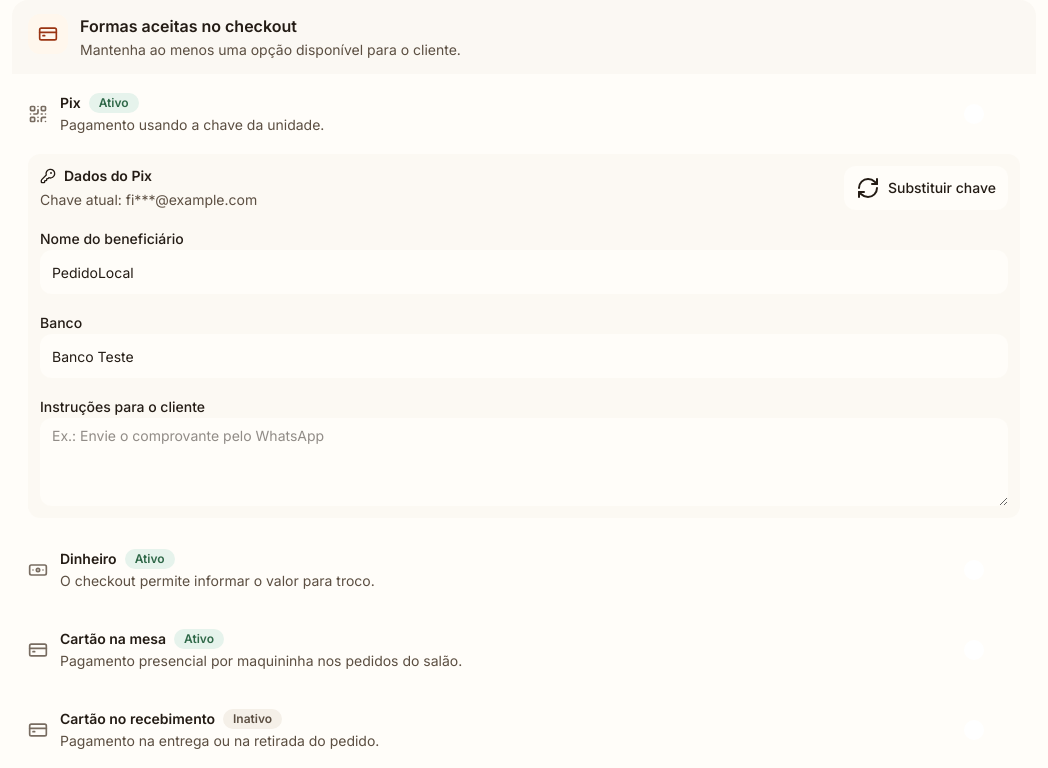
Scenario: componentes do painel do tenant › mostra apenas a chave Pix mascarada e exige substituição explícita
This screenshot has width=1048, height=768.
Expected: the text "Chave atual: fi***@example.com" is shown, left=40, top=190, right=257, bottom=210
Click the button "Substituir chave" at (926, 188), box left=844, top=166, right=1008, bottom=210
(page scrolled)
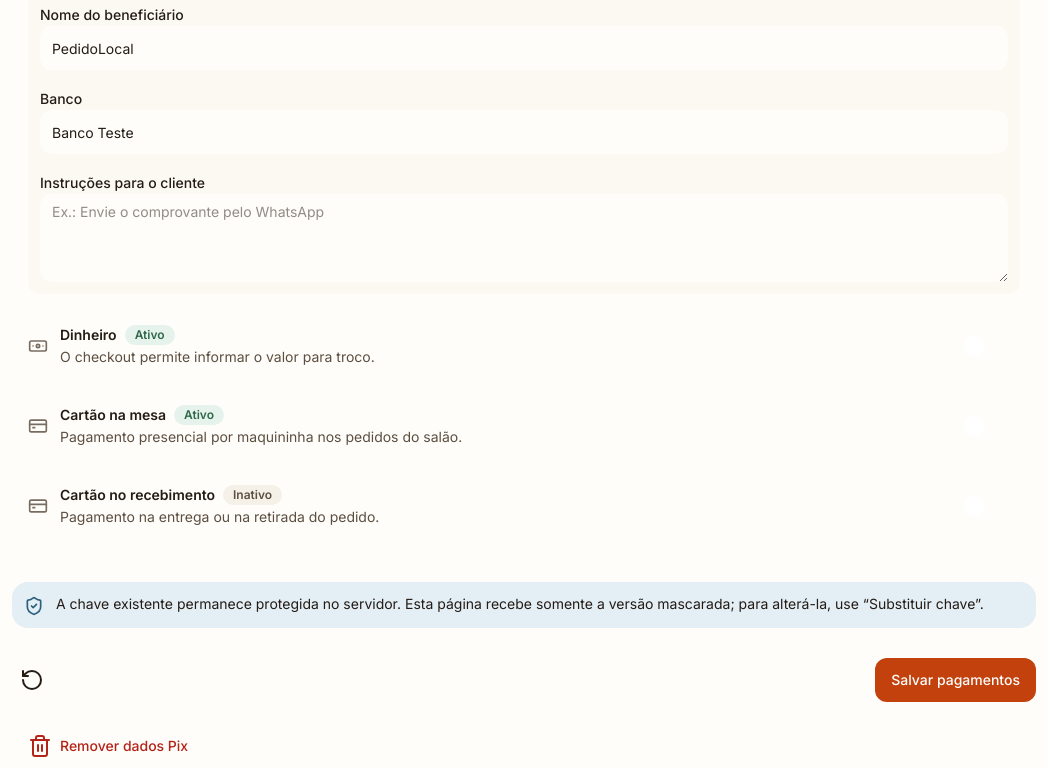
Expected: the button "Salvar pagamentos" is enabled, left=875, top=658, right=1036, bottom=702
